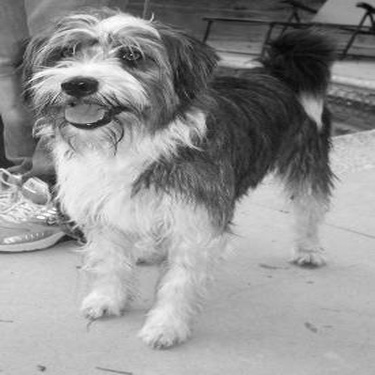dog: (2, 5, 348, 352)
